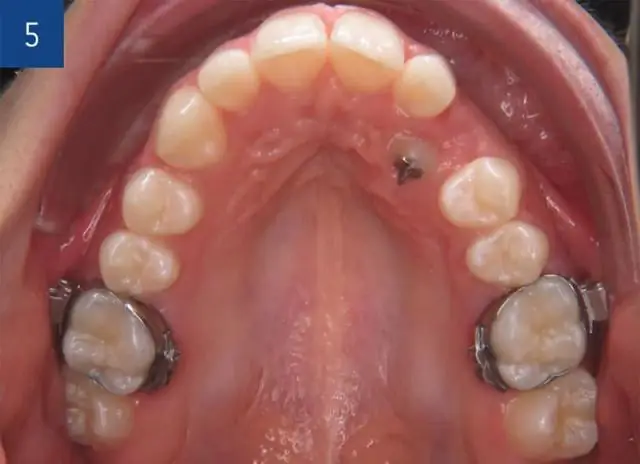UL1M_healthy: (464, 218, 546, 284)
UL2BC_healthy: (431, 162, 523, 228)
UL2M_decay: (472, 272, 589, 392)
ULC_healthy: (386, 56, 456, 124)
ULLI_healthy: (328, 12, 401, 96)
UR1BC_healthy: (125, 169, 202, 241)
UR1M_decay: (48, 278, 181, 402)
UR2BC_healthy: (102, 231, 181, 294)
URCI_healthy: (256, 18, 328, 95)
URC_healthy: (156, 92, 228, 172)
URLI_healthy: (199, 48, 262, 122)
